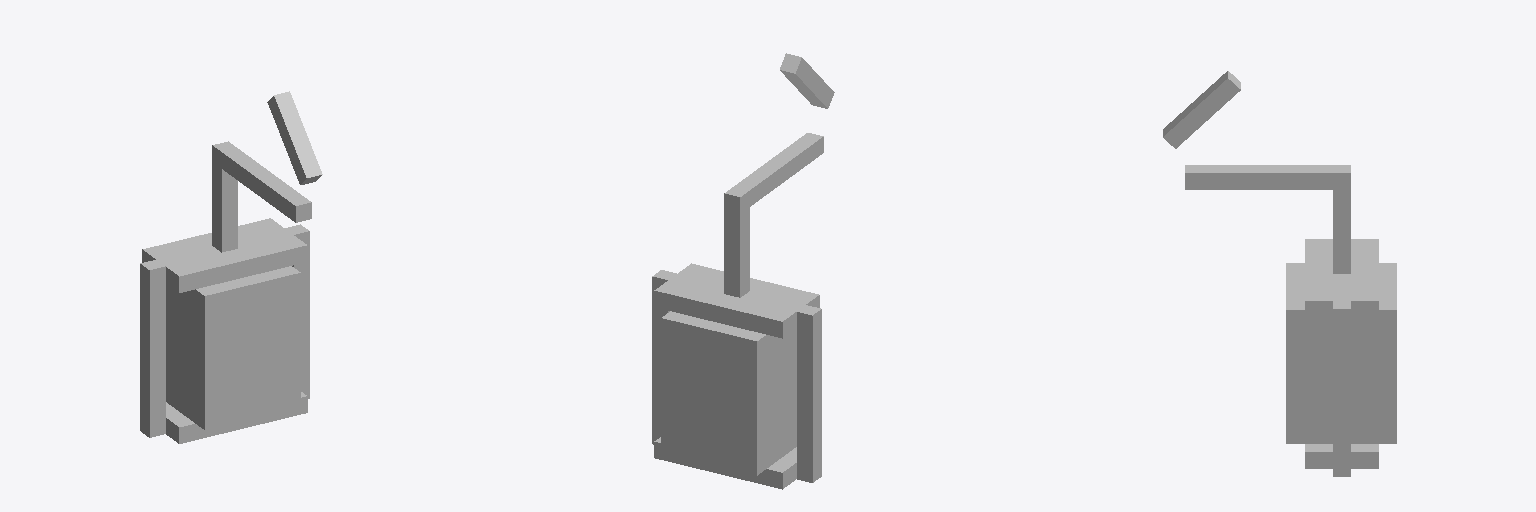
Rendered from kerosene_lamp.obj.
3 renders of one model, left to right at view 1: azimuth 30°, elevation 25°; view 2: azimuth 150°, elevation 25°; view 3: azimuth 270°, elevation 25°, orthographic.
Visible parts, largest first — view 1: Lamp, SideSupport, MainSupport; view 2: Lamp, SideSupport, MainSupport; view 3: Lamp, SideSupport, MainSupport.
Part boxes in pixels (bbox=[...]): Lamp: bbox=[140, 218, 309, 443]; SideSupport: bbox=[222, 91, 322, 222]; MainSupport: bbox=[212, 141, 237, 252]; Lamp: bbox=[652, 263, 821, 489]; SideSupport: bbox=[734, 53, 834, 206]; MainSupport: bbox=[724, 187, 749, 297]; Lamp: bbox=[1286, 239, 1396, 476]; SideSupport: bbox=[1163, 71, 1332, 189]; MainSupport: bbox=[1333, 165, 1350, 273].
Size of the model in its own units: 1 by 2.17 by 1.27.